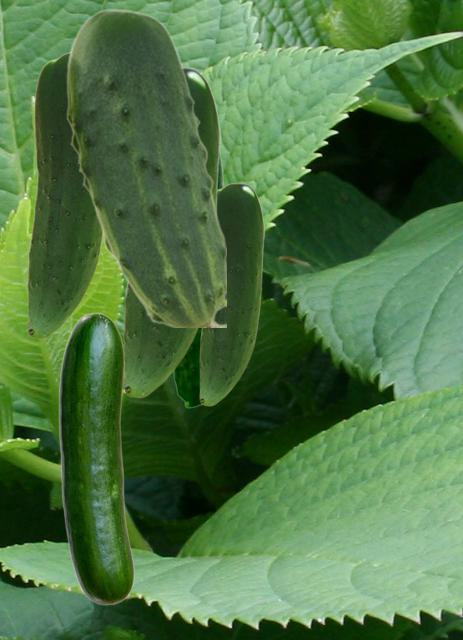cucumber: (66, 8, 225, 326), (123, 67, 219, 397), (58, 312, 133, 604), (27, 52, 102, 338), (199, 183, 263, 405), (173, 150, 224, 407)
